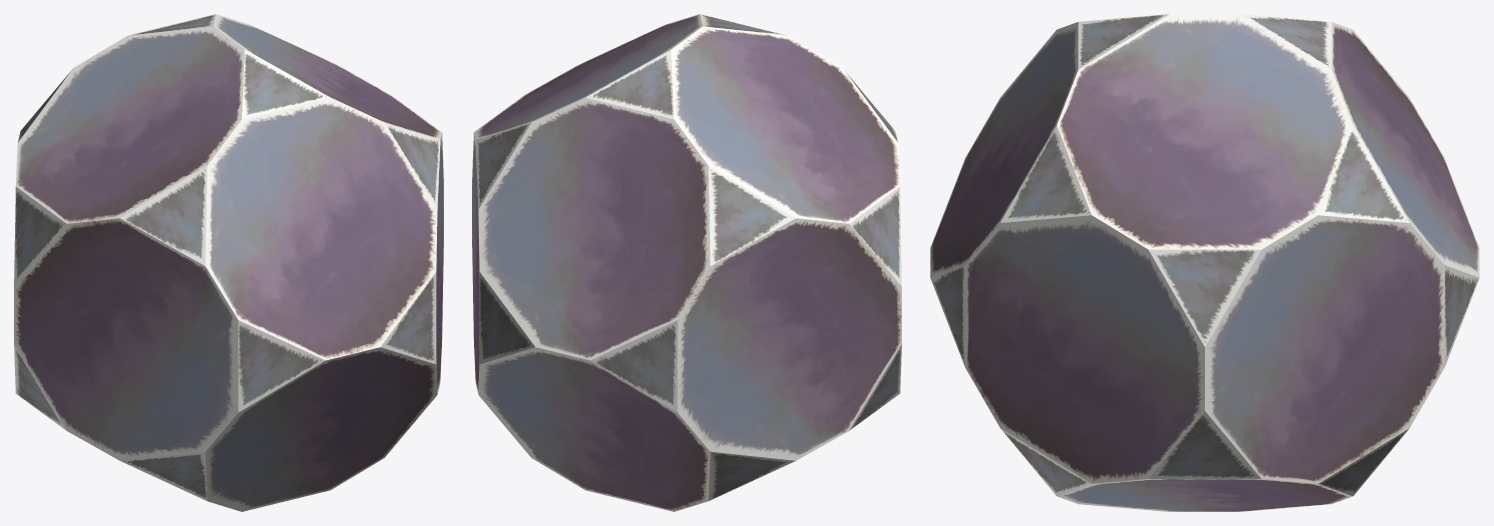
Rendered from gem_empty.fbx.
3 views of the same model, side by side, from view 1: azimuth 30°, elevation 25°; view 2: azimuth 150°, elevation 25°; view 3: azimuth 270°, elevation 25° (orthographic). The views are drawn at different scales.
Visible parts, largest first — view 1: Solid.001; view 2: Solid.001; view 3: Solid.001.
Part boxes in pixels (x1=…): Solid.001: x1=14, y1=14, x2=443, y2=511; Solid.001: x1=472, y1=14, x2=901, y2=511; Solid.001: x1=930, y1=14, x2=1479, y2=511.
Bounding box in the file's own units: 321 × 321 × 321.
1 material, 1 textured.
